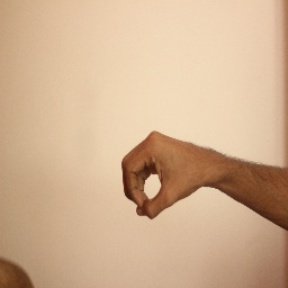O: (118, 124, 218, 224)
